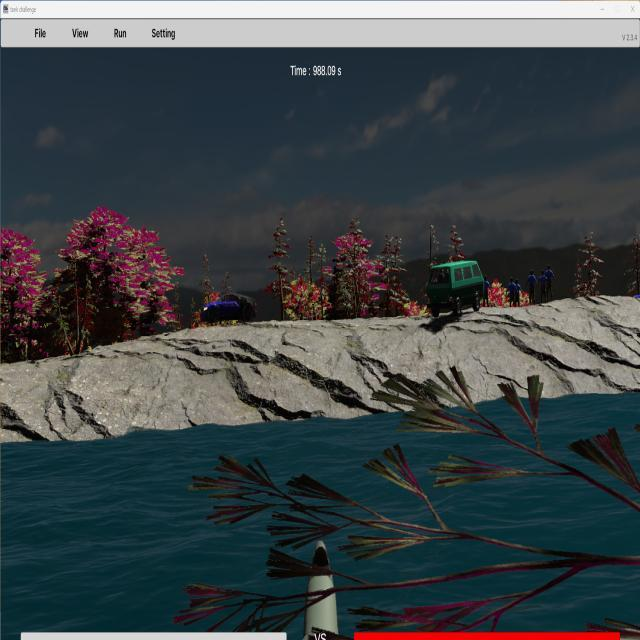Human: (526, 269, 538, 306)
Tank: (597, 315, 640, 382)
car: (427, 260, 486, 318)
